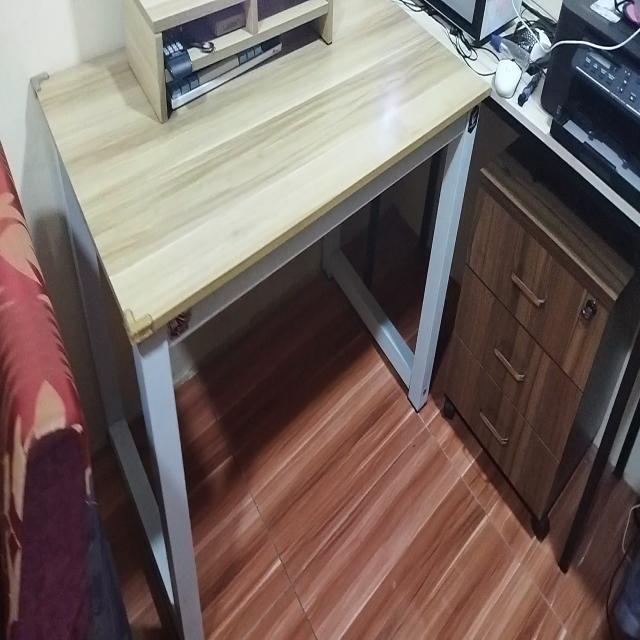table: (36, 0, 480, 640)
